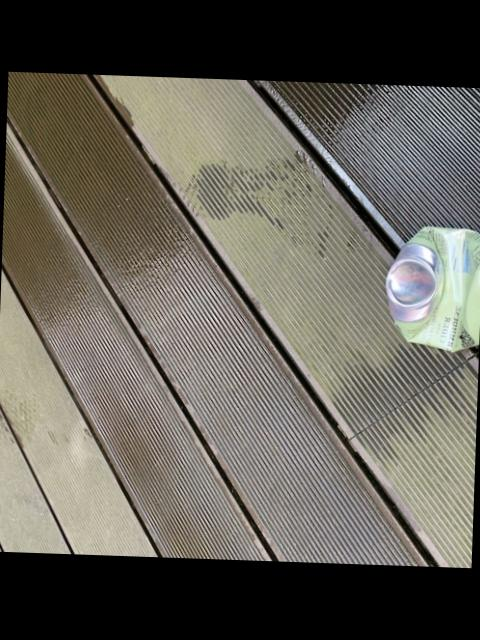metal: (384, 225, 480, 350)
